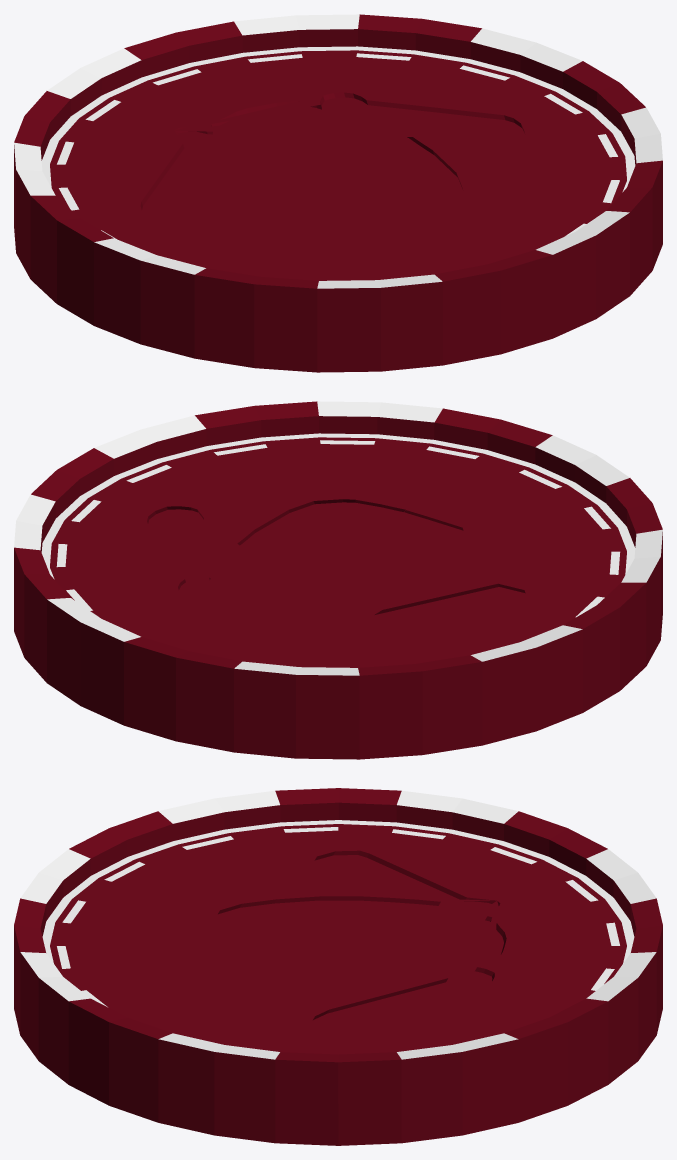
Rendered from poker chip red (single).fbx.
3 renders of one model, top to bottom at view 1: azimuth 30°, elevation 25°; view 2: azimuth 150°, elevation 25°; view 3: azimuth 270°, elevation 25°, orthographic.
Visible parts, largest first — view 1: Cylinder; view 2: Cylinder; view 3: Cylinder.
Boxes of the visible parts, <box> form: Cylinder: <box>14,14,662,372</box>; Cylinder: <box>14,401,662,759</box>; Cylinder: <box>14,788,662,1145</box>.
Size of the model in its own units: 200 by 28.43 by 200.
